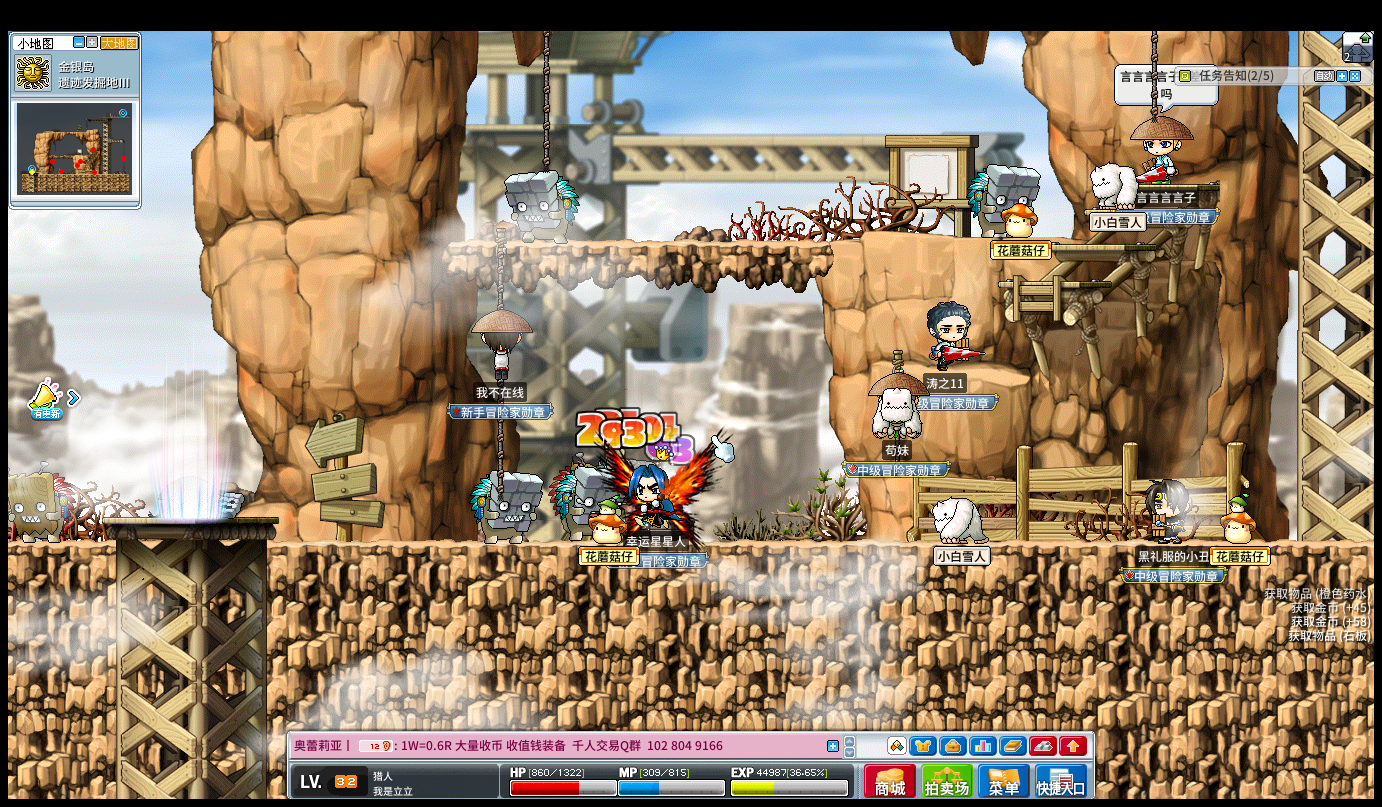floor: (268, 538, 1292, 559), (447, 238, 833, 250), (924, 364, 1031, 382), (918, 234, 1078, 243), (100, 516, 276, 524), (995, 280, 1110, 291), (8, 540, 116, 550), (995, 279, 1109, 288), (1044, 244, 1154, 252)
monster: (469, 470, 542, 545), (504, 170, 577, 244), (6, 464, 73, 543), (966, 164, 1043, 220), (552, 465, 608, 541), (966, 164, 1042, 203)
rope: (542, 30, 550, 173), (493, 233, 507, 309), (1150, 28, 1157, 114), (493, 418, 502, 471)
